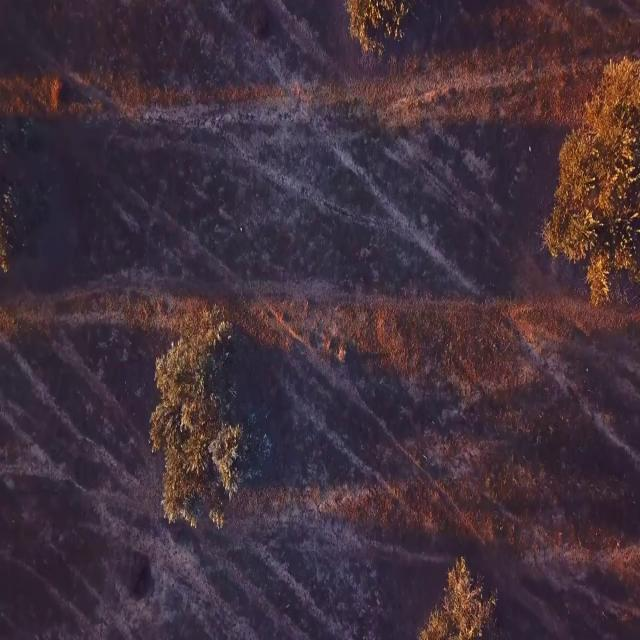trees: (115, 276, 274, 529), (538, 46, 640, 300)
